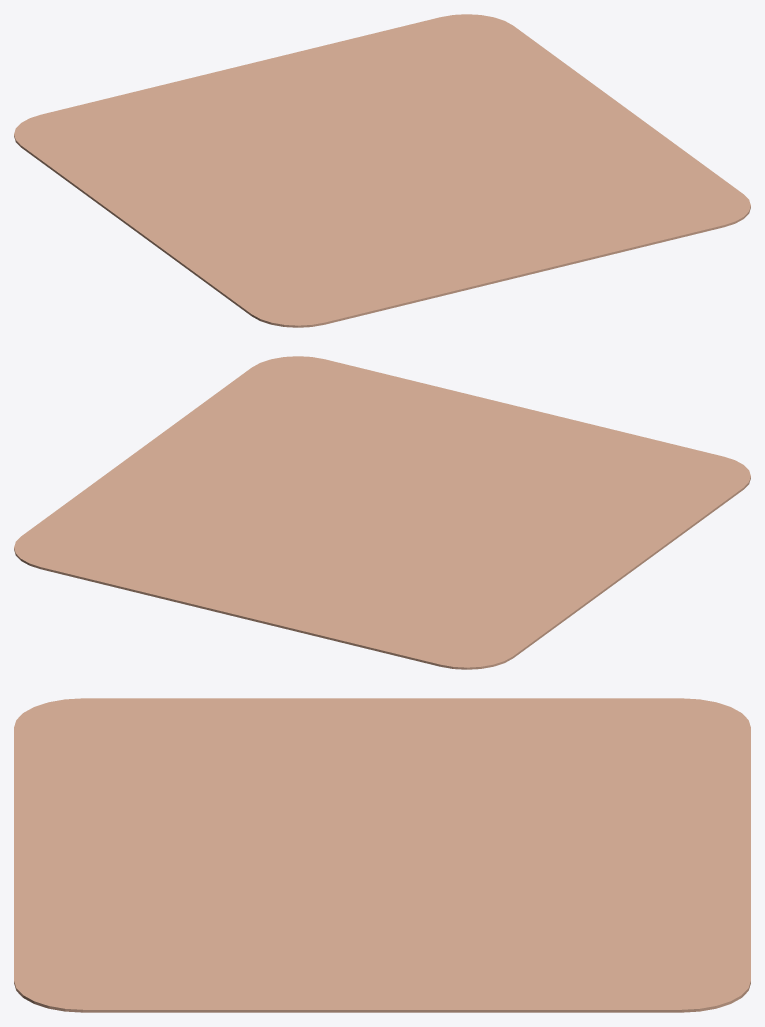
3 renders of one model, top to bottom at view 1: azimuth 30°, elevation 25°; view 2: azimuth 150°, elevation 25°; view 3: azimuth 270°, elevation 25°, orthographic. The views are drawn at different scales.
Visible parts, largest first — view 1: COM-02 Floor Surface; view 2: COM-02 Floor Surface; view 3: COM-02 Floor Surface.
Part boxes in pixels (x1,y1,x2,y2): COM-02 Floor Surface: (14, 14, 750, 327); COM-02 Floor Surface: (14, 356, 750, 669); COM-02 Floor Surface: (14, 698, 750, 1012).
Bounding box in the file's own units: 192 × 0.8 × 192.
